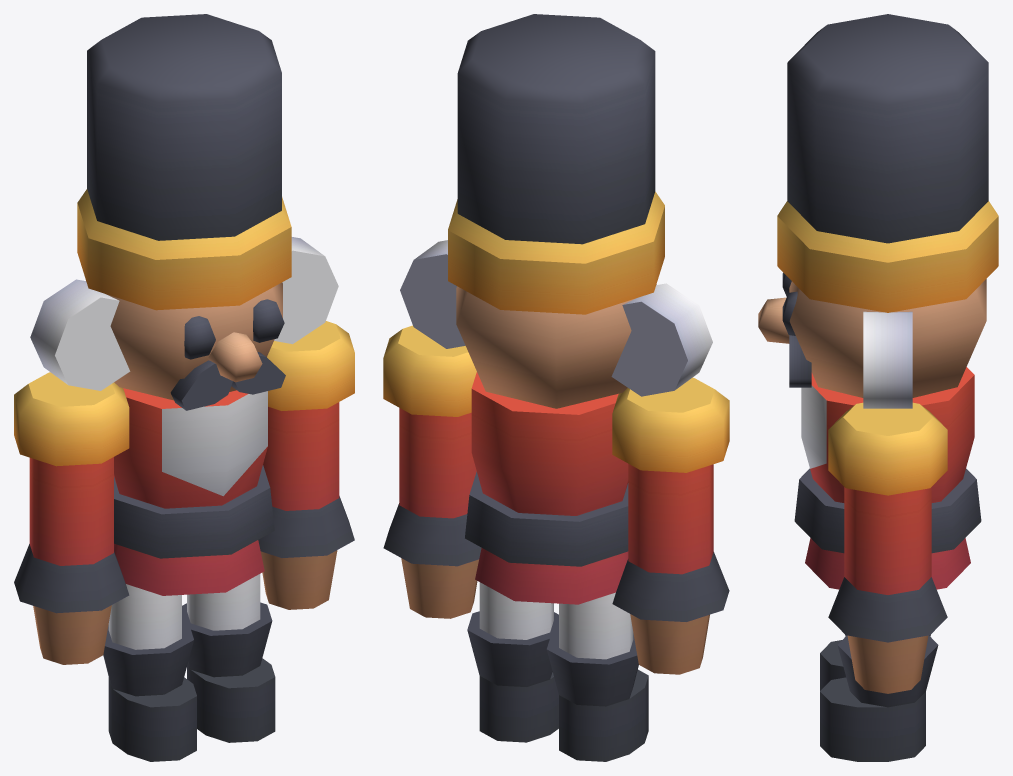
Rendered from notknappare.glb.
The picture shows the model from 3 angles, left to right: view 1: azimuth 30°, elevation 25°; view 2: azimuth 150°, elevation 25°; view 3: azimuth 270°, elevation 25°; orthographic projection.
Parts seen in each view (by area): view 1: nutcracker; view 2: nutcracker; view 3: nutcracker.
Part boxes in pixels (x1,y1,x2,y2): nutcracker: [14, 14, 354, 761]; nutcracker: [383, 14, 729, 761]; nutcracker: [758, 14, 998, 761].
Size of the model in its own units: 0.5485 by 1.08 by 0.3475.
Materials: 1 (1 with a texture image).
